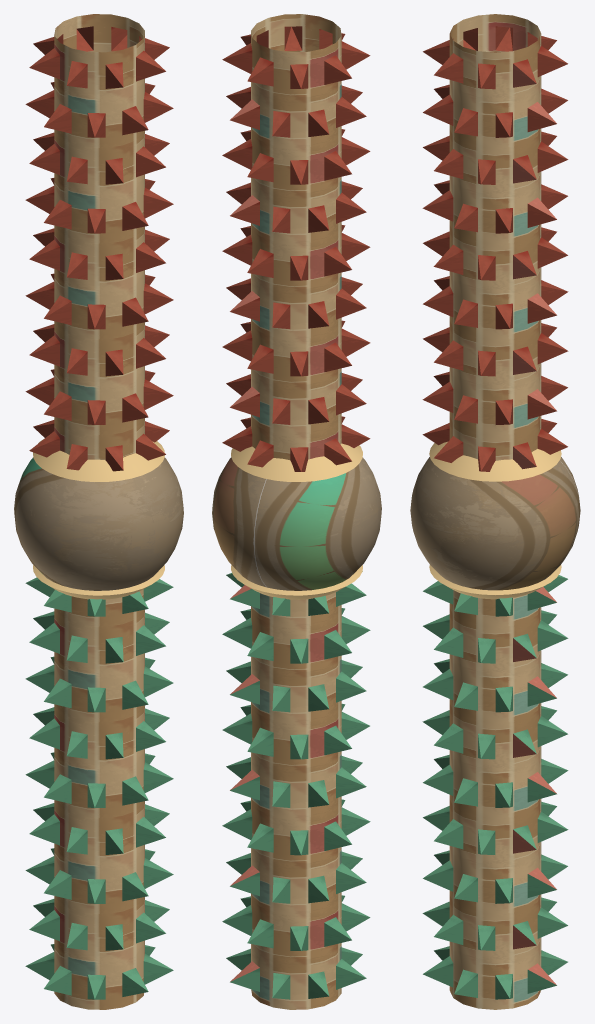
File: MayanSpinningSpikeWheel 1.fbx
3 renders of one model, left to right at view 1: azimuth 30°, elevation 25°; view 2: azimuth 150°, elevation 25°; view 3: azimuth 270°, elevation 25°, orthographic.
Visible parts, largest first — view 1: Circle.004, Circle.003, Circle.002; view 2: Circle.004, Circle.003, Circle.002; view 3: Circle.004, Circle.003, Circle.002.
Boxes of the visible parts, bbox=[...] form: Circle.004: bbox=[25, 14, 173, 471]; Circle.003: bbox=[25, 577, 173, 1009]; Circle.002: bbox=[14, 438, 183, 599]; Circle.004: bbox=[222, 14, 370, 471]; Circle.003: bbox=[222, 571, 370, 1009]; Circle.002: bbox=[212, 443, 381, 599]; Circle.004: bbox=[422, 14, 568, 471]; Circle.003: bbox=[422, 575, 568, 1009]; Circle.002: bbox=[410, 441, 580, 599].
Bounding box in the file's own units: 1118 × 6933 × 1118.
4 materials, 3 textured.
